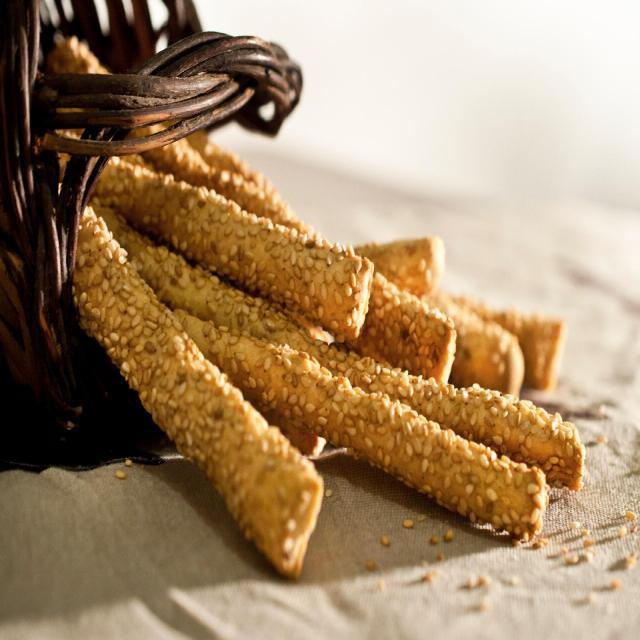Grissini: (89, 126, 585, 584)
